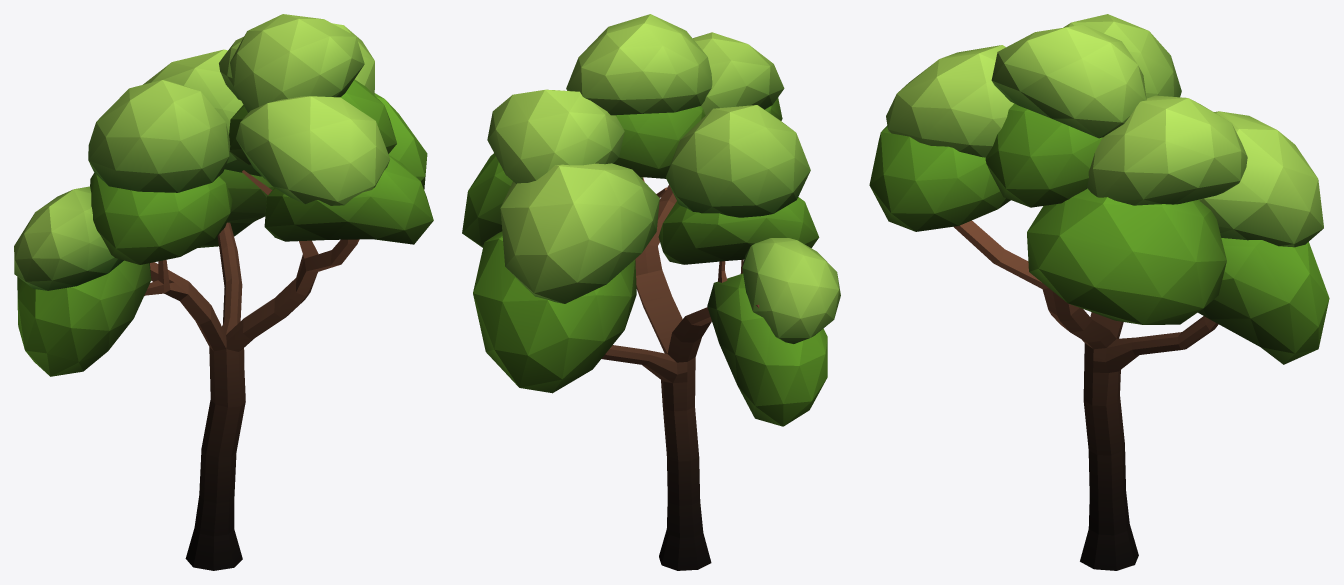
The model's file is tree.fbx.
The picture shows the model from 3 angles, left to right: view 1: azimuth 30°, elevation 25°; view 2: azimuth 150°, elevation 25°; view 3: azimuth 270°, elevation 25°; orthographic projection. The views are drawn at different scales.
Parts seen in each view (by area): view 1: big tree.010; view 2: big tree.010; view 3: big tree.010.
Part boxes in pixels (x1,y1,x2,y2): big tree.010: [14, 14, 433, 570]; big tree.010: [462, 14, 840, 570]; big tree.010: [869, 14, 1329, 570].
Size of the model in its own units: 14.85 by 20.12 by 14.88.
Materials: 1 (1 with a texture image).
